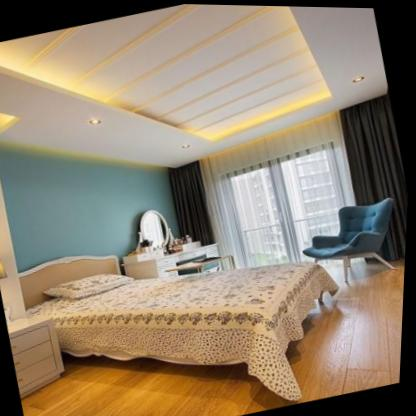Gypsum Board: (0, 0, 401, 220)
